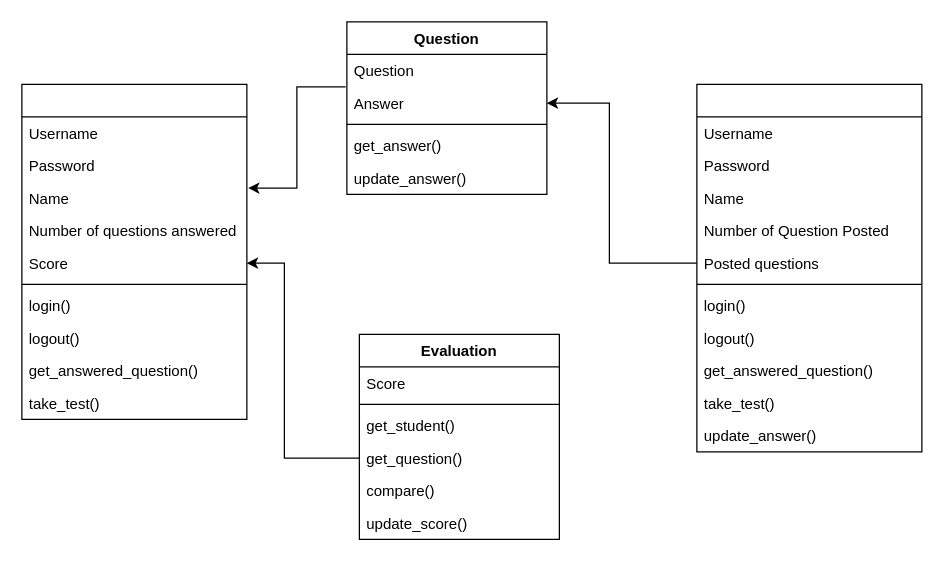
The diagram is 944 pixels wide and 565 high, and some of its shapes have lost their labels. Each missing label, with the box of its shape:
Student: (21, 83, 247, 419)
Teacher: (696, 83, 922, 452)
